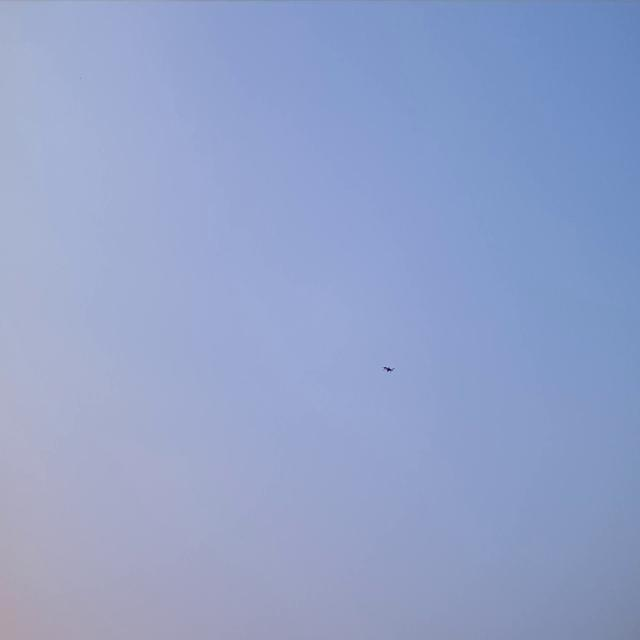UAV: (381, 363, 397, 375)
